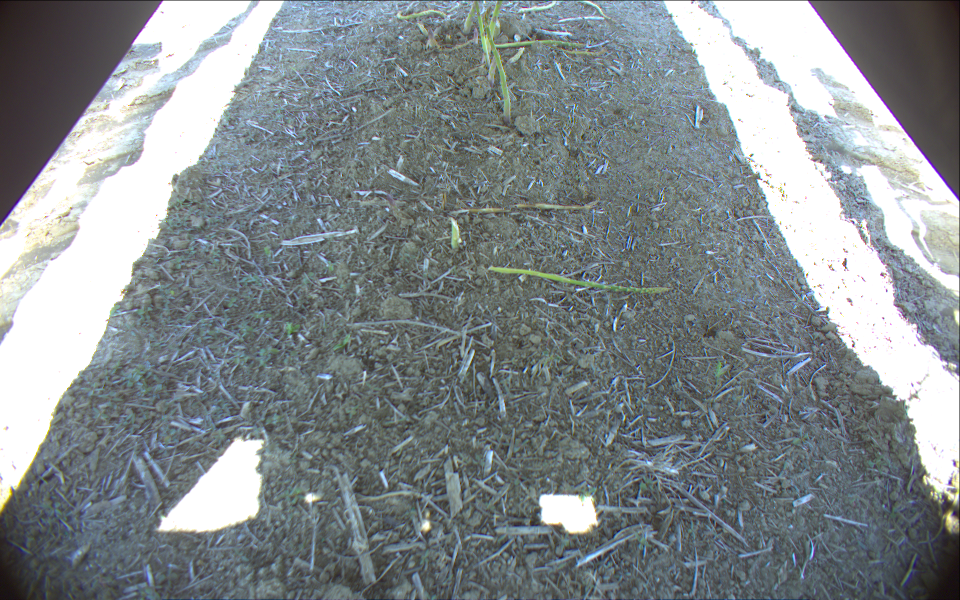aspa: (483, 22, 517, 125), (480, 1, 510, 62), (454, 1, 480, 32)
